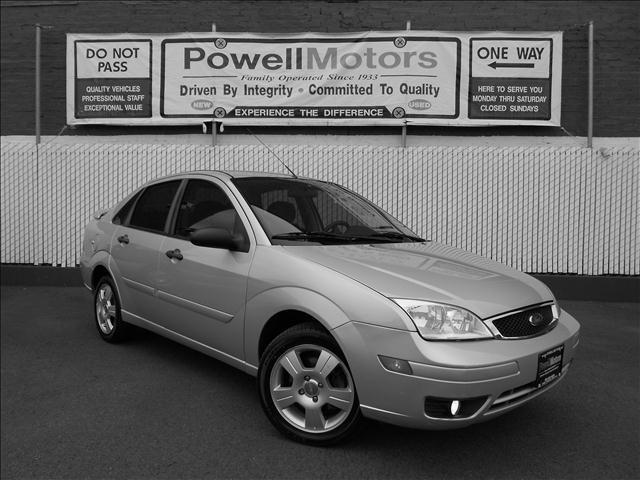car: (81, 171, 582, 452)
